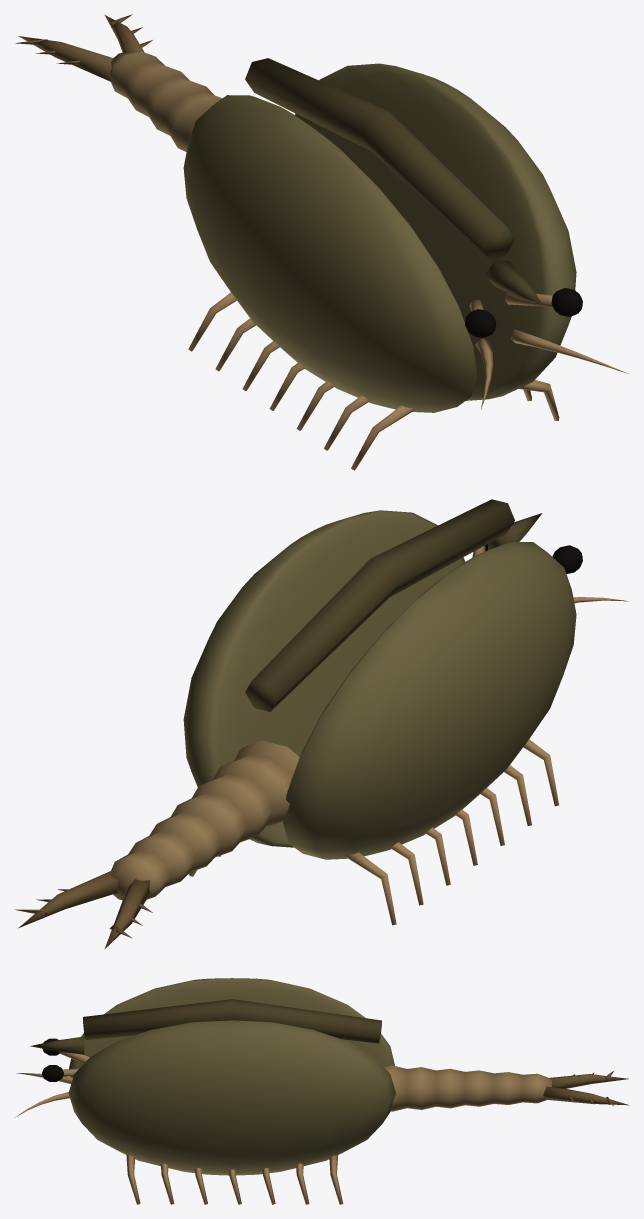
File: Canadaspis.fbx
The picture shows the model from 3 angles, top to bottom: view 1: azimuth 30°, elevation 25°; view 2: azimuth 150°, elevation 25°; view 3: azimuth 270°, elevation 25°; orthographic projection. The views are drawn at different scales.
Parts seen in each view (by area): view 1: Canadaspis; view 2: Canadaspis; view 3: Canadaspis.
Part boxes in pixels (left/top/right/bottom): Canadaspis: left=15, top=14, right=628, bottom=470; Canadaspis: left=14, top=499, right=628, bottom=949; Canadaspis: left=15, top=978, right=629, bottom=1204.
Size of the model in its own units: 0.47 by 0.4948 by 1.58.
